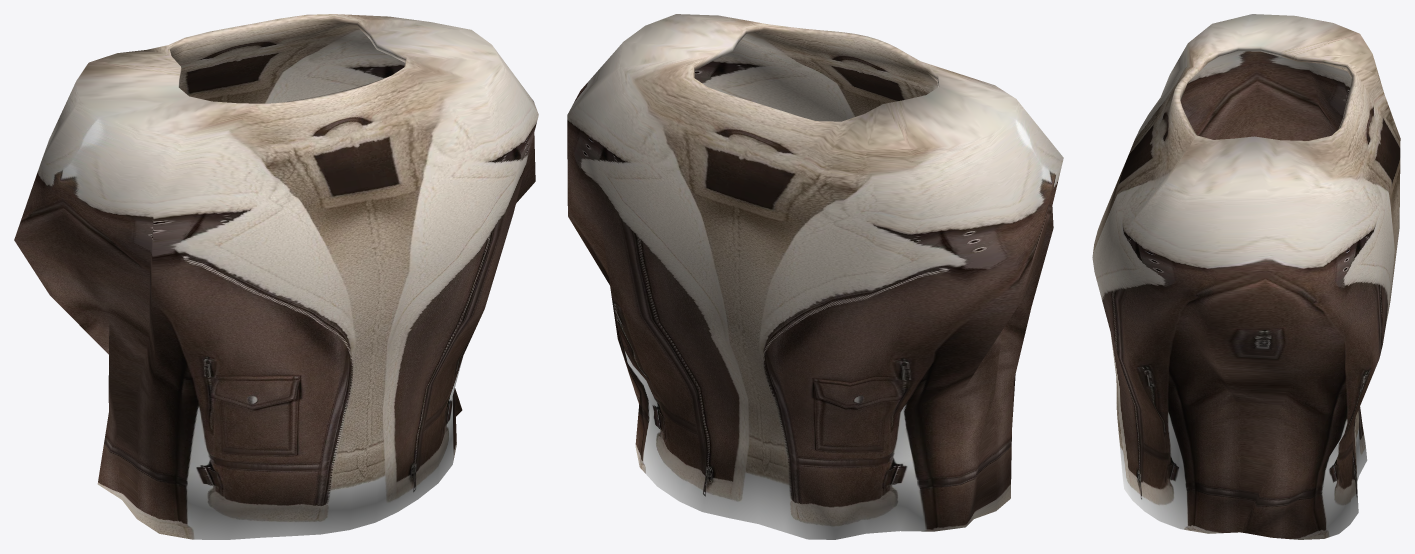
File: dbcea4f7-0d8e-4128-a747-ba28ad169a53.glb
The picture shows the model from 3 angles, left to right: view 1: azimuth 30°, elevation 25°; view 2: azimuth 150°, elevation 25°; view 3: azimuth 270°, elevation 25°; orthographic projection. The views are drawn at different scales.
Visible parts, largest first — view 1: garment; view 2: garment; view 3: garment.
Part boxes in pixels (box(x1,y1,x2,y2)): garment: box(14, 14, 538, 539); garment: box(567, 14, 1063, 539); garment: box(1092, 14, 1400, 539).
Bounding box in the file's own units: 0.5446 × 0.4622 × 0.3307.
1 material, 1 textured.
